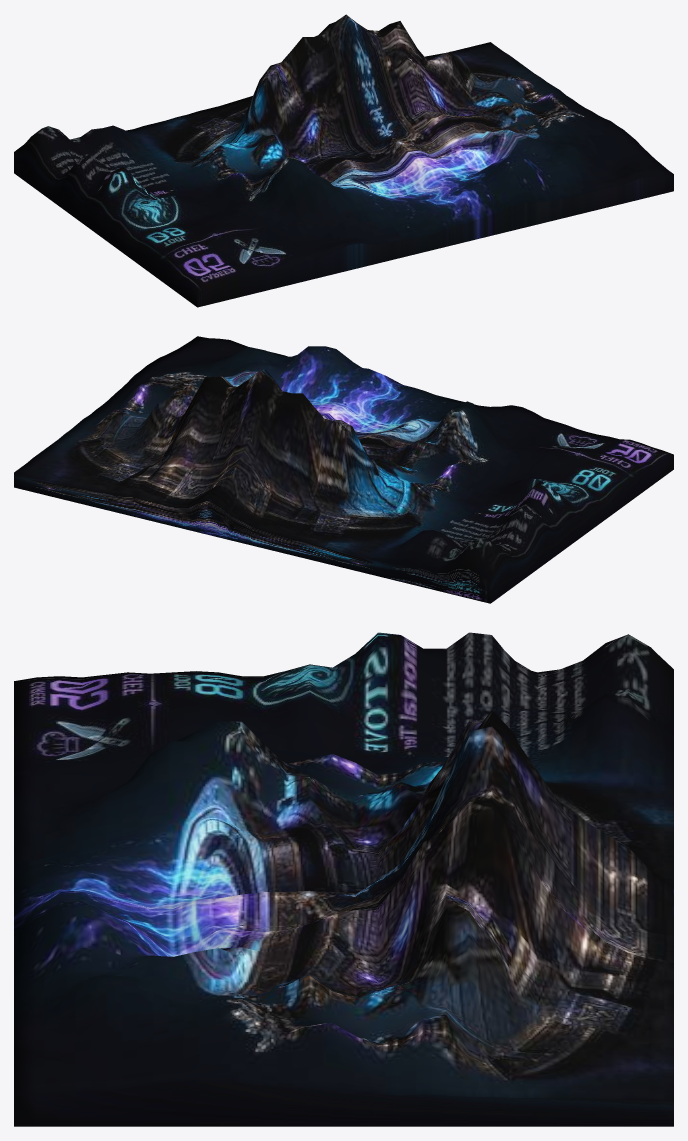
Rendered from CAREER_05_Tool_08_Qi_Stove.glb.
The picture shows the model from 3 angles, top to bottom: view 1: azimuth 30°, elevation 25°; view 2: azimuth 150°, elevation 25°; view 3: azimuth 270°, elevation 25°; orthographic projection. The views are drawn at different scales.
Parts seen in each view (by area): view 1: CAREER_05_Tool_08_Qi_Stove; view 2: CAREER_05_Tool_08_Qi_Stove; view 3: CAREER_05_Tool_08_Qi_Stove.
Boxes of the visible parts, x1,y1,x2,y2 form: CAREER_05_Tool_08_Qi_Stove: [14, 14, 673, 307]; CAREER_05_Tool_08_Qi_Stove: [14, 336, 673, 603]; CAREER_05_Tool_08_Qi_Stove: [14, 632, 673, 1126].
Bounding box in the file's own units: 2 × 0.51 × 1.33.
1 material, 1 textured.
